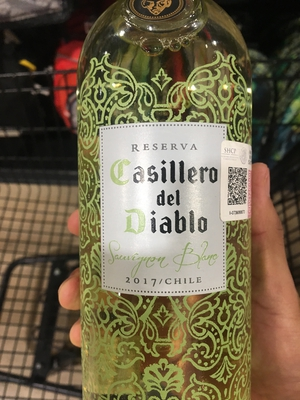casillero del diablo sauvignon blanc: (67, 14, 267, 400)
